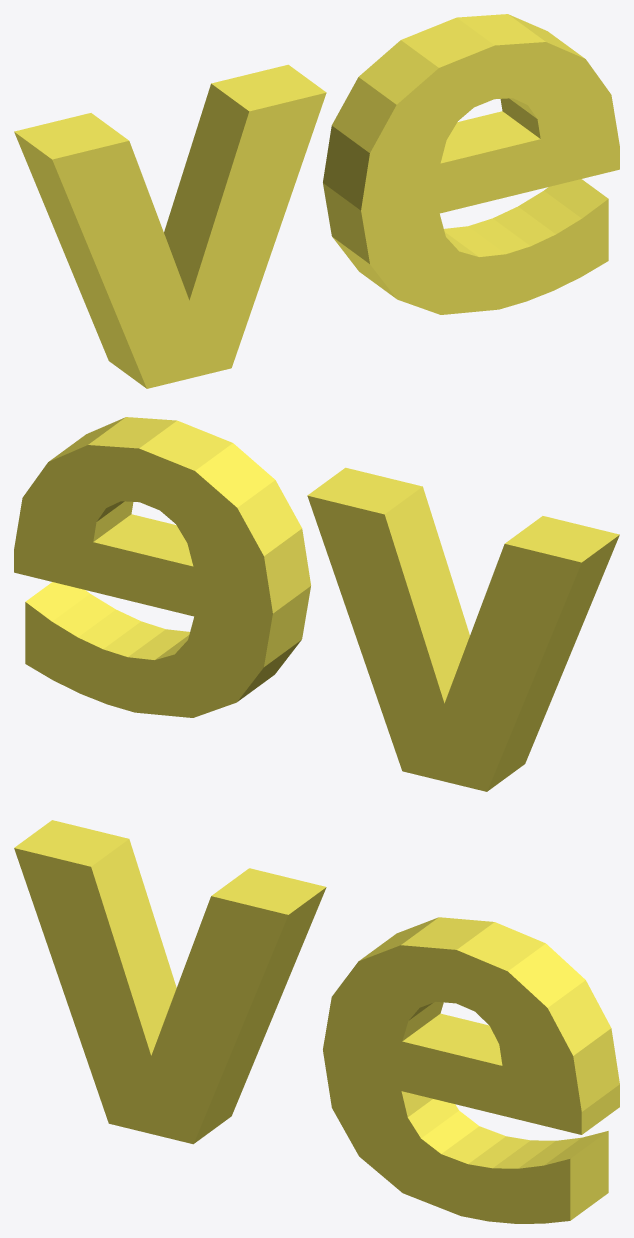
The model's file is suku_kecil_ve.glb.
The picture shows the model from 3 angles, top to bottom: view 1: azimuth 30°, elevation 25°; view 2: azimuth 150°, elevation 25°; view 3: azimuth 330°, elevation 25°; orthographic projection.
Visible parts, largest first — view 1: geometry_0; view 2: geometry_0; view 3: geometry_0.
Part boxes in pixels (x1=…): geometry_0: x1=14, y1=14, x2=619, y2=388; geometry_0: x1=14, y1=417, x2=619, y2=791; geometry_0: x1=14, y1=820, x2=619, y2=1223.
Size of the model in its own units: 12.87 by 5.74 by 1.5.
